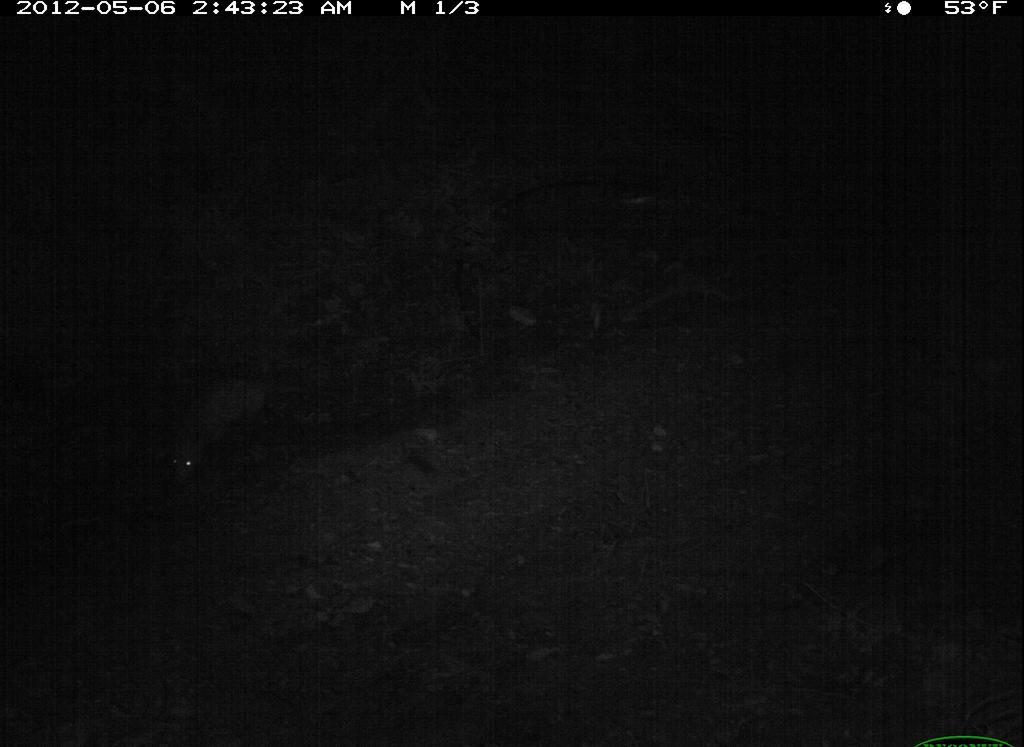opossum: (143, 373, 294, 495)
